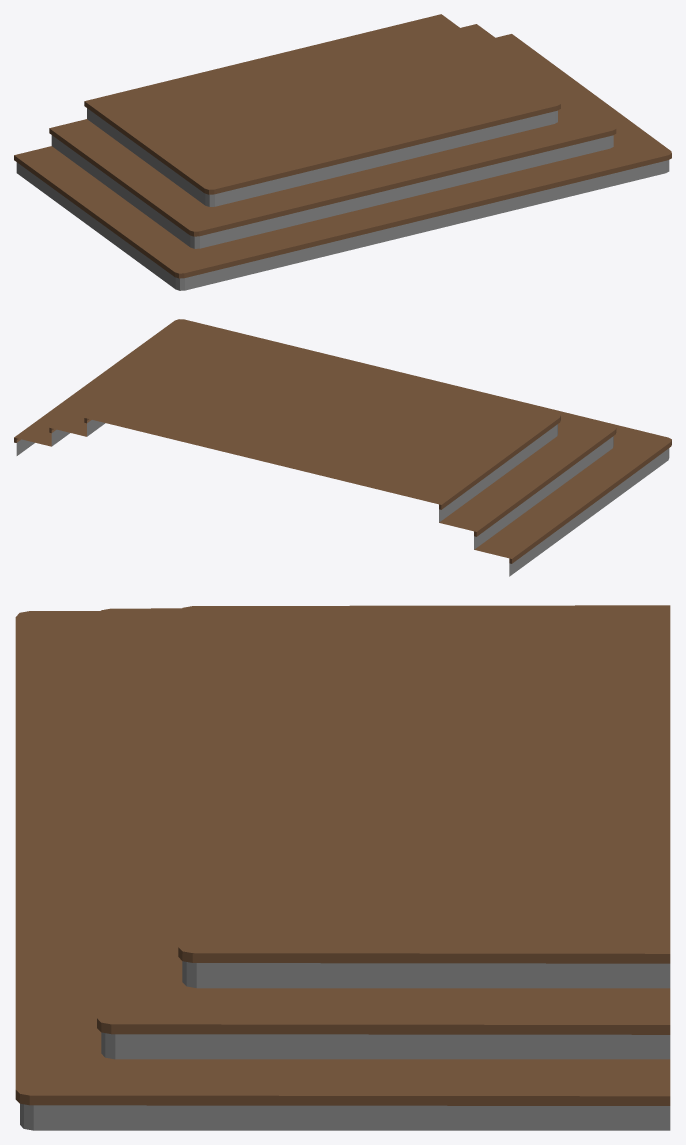
Rendered from Int_MusicRoomPlatform01.fbx.
3 views of the same model, one above another, from view 1: azimuth 30°, elevation 25°; view 2: azimuth 150°, elevation 25°; view 3: azimuth 270°, elevation 25° (orthographic). The views are drawn at different scales.
Visible parts, largest first — view 1: Int_MusicRoomPlatform01; view 2: Int_MusicRoomPlatform01; view 3: Int_MusicRoomPlatform01.
Part boxes in pixels (box(x1,y1,x2,y2)): Int_MusicRoomPlatform01: box(14, 14, 671, 290); Int_MusicRoomPlatform01: box(14, 319, 671, 576); Int_MusicRoomPlatform01: box(15, 605, 670, 1130).
Size of what is drawn, in the model's own units: 707 by 403 by 75.
